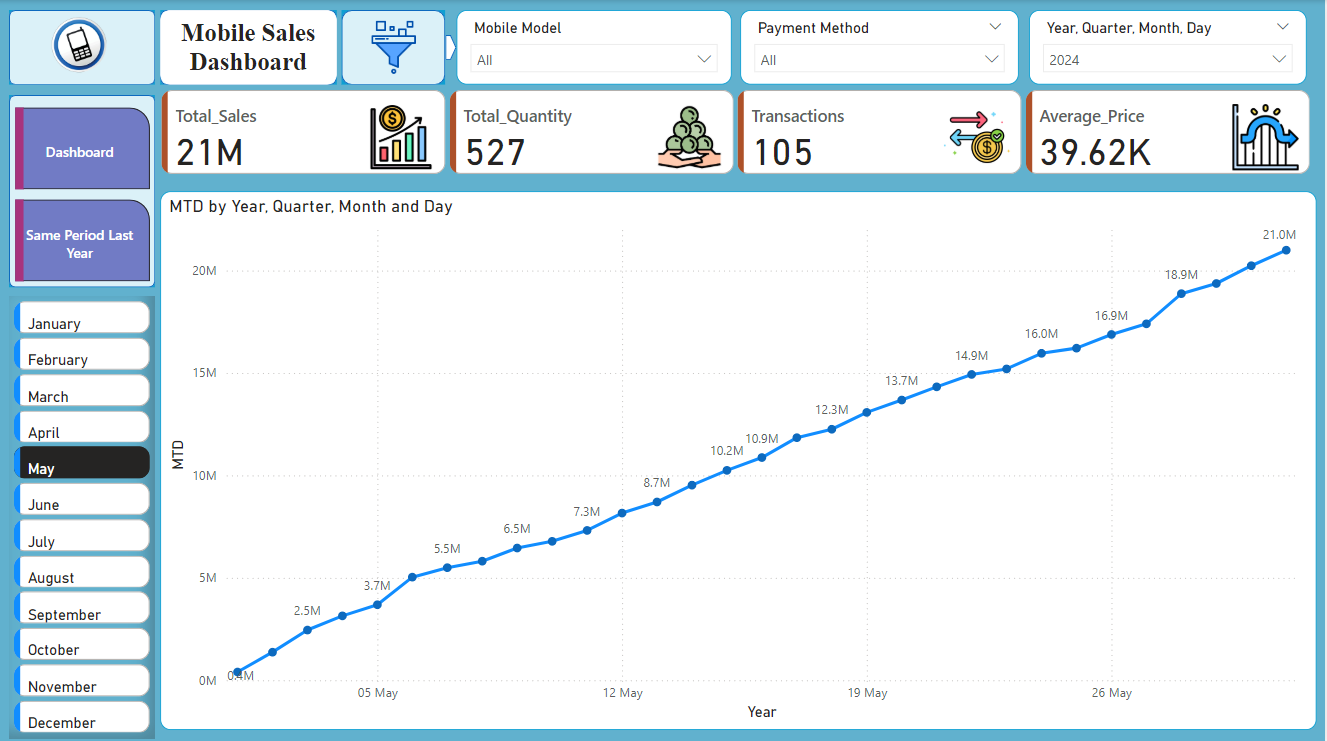

What the dashboard file says about the page in this screenshot:
{"tool":"powerbi","page":{"name":"MTD Report","canvas":[1280,720],"ordinal":1},"visuals":[{"type":"shape","box":[9.7,9.7,141.2,72.4],"z":0},{"type":"image","box":[9.7,9.7,141.2,72.4],"z":1000},{"type":"shape","box":[9.7,91.7,141.2,185.8],"z":2000},{"type":"cardVisual","fields":{"Data":["Sales_Data.Total_Sales","Sales_Data.Total_Quantity","Sales_Data.Transactions","Sales_Data.Average_Price"]},"box":[152.3,82.3,1119.7,91.9],"z":3000},{"type":"slicer","fields":{"Values":["Sales_Data.Mobile Model"]},"box":[441.6,9.7,265.4,72.4],"z":4000},{"type":"slicer","fields":{"Values":["Sales_Data.Payment Method"]},"box":[715.4,9.7,269,72.4],"z":5000},{"type":"shape","box":[330.6,9.7,100.1,72.4],"z":6000},{"type":"slicer","fields":{"Values":["Custom_Calendar.Date.Variation.Date Hierarchy.Year","Custom_Calendar.Date.Variation.Date Hierarchy.Quarter","Custom_Calendar.Date.Variation.Date Hierarchy.Month","Custom_Calendar.Date.Variation.Date Hierarchy.Day"]},"box":[994.1,9.7,267.8,72.4],"z":7000},{"type":"image","box":[340.2,14.5,80.8,62.7],"z":8000},{"type":"shape","box":[430.7,33.8,10.9,24.1],"z":9000},{"type":"shape","box":[155.6,9.7,170.1,72.4],"z":10000},{"type":"textbox","box":[155.6,9.7,170.1,72.4],"z":11000},{"type":"lineChart","fields":{"Category":["Custom_Calendar.Date.Variation.Date Hierarchy.Year","Custom_Calendar.Date.Variation.Date Hierarchy.Quarter","Custom_Calendar.Date.Variation.Date Hierarchy.Month","Custom_Calendar.Date.Variation.Date Hierarchy.Day"],"Y":["Sales_Data.MTD"]},"box":[155.6,184.6,1116,520],"z":12000},{"type":"advancedSlicerVisual","fields":{"Values":["Custom_Calendar.Date.Variation.Date Hierarchy.Month"]},"box":[9.7,285.9,141.2,427.1],"z":13000},{"type":"pageNavigator","box":[15.7,103.8,130.3,168.9],"z":14000}]}

Visuals, with their boxes in screenshot pixels (x1, y1, x2, y2), scaled from the page's 1280x720 canvas onto the 1327x741 screenshot:
shape: <box>10,10,156,84</box>
image: <box>10,10,156,84</box>
shape: <box>10,94,156,286</box>
cardVisual - Sales_Data.Total_Sales x Sales_Data.Total_Quantity: <box>158,85,1319,179</box>
slicer - Sales_Data.Mobile Model: <box>458,10,733,84</box>
slicer - Sales_Data.Payment Method: <box>742,10,1021,84</box>
shape: <box>343,10,447,84</box>
slicer - Custom_Calendar.Date.Variation.Date Hierarchy.Year x Custom_Calendar.Date.Variation.Date Hierarchy.Quarter: <box>1031,10,1308,84</box>
image: <box>353,15,436,79</box>
shape: <box>447,35,458,60</box>
shape: <box>161,10,338,84</box>
textbox: <box>161,10,338,84</box>
lineChart - Custom_Calendar.Date.Variation.Date Hierarchy.Year x Custom_Calendar.Date.Variation.Date Hierarchy.Quarter: <box>161,190,1318,725</box>
advancedSlicerVisual - Custom_Calendar.Date.Variation.Date Hierarchy.Month: <box>10,294,156,734</box>
pageNavigator: <box>16,107,151,281</box>
